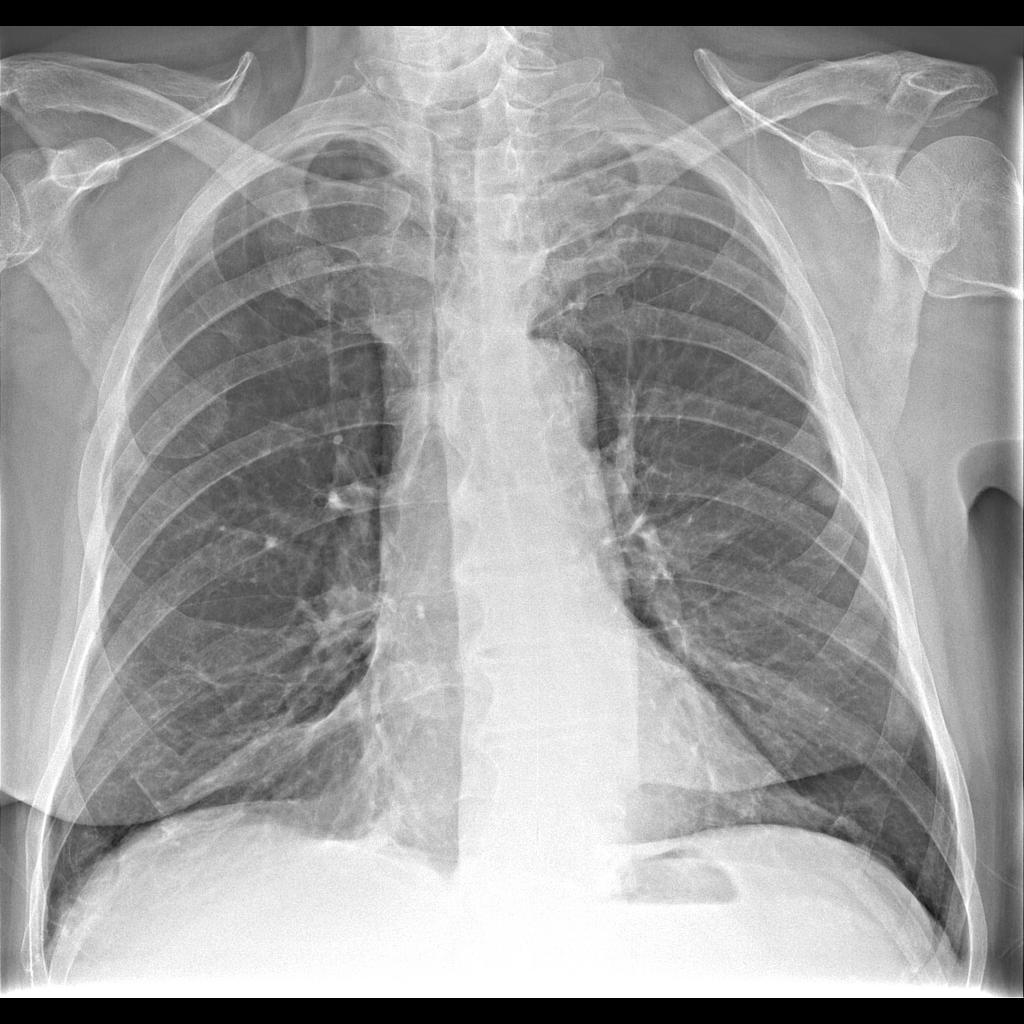Nodule: (802, 465, 851, 521)
